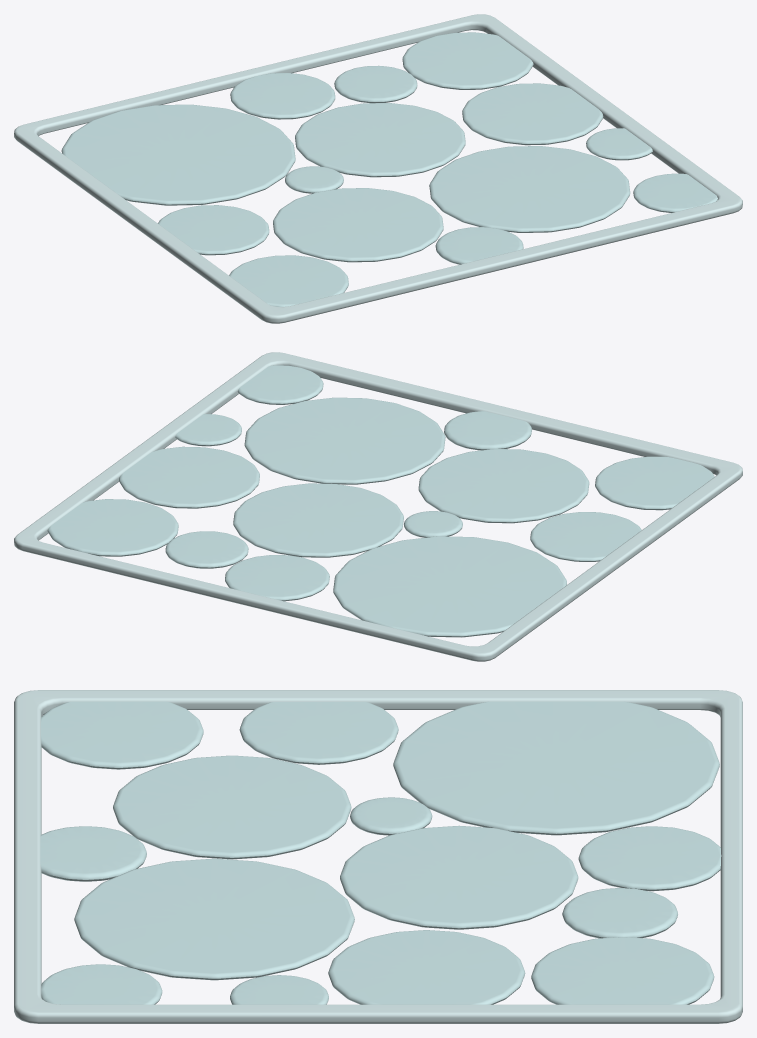
File: circels board.fbx
The picture shows the model from 3 angles, top to bottom: view 1: azimuth 30°, elevation 25°; view 2: azimuth 150°, elevation 25°; view 3: azimuth 270°, elevation 25°; orthographic projection. The views are drawn at different scales.
Parts seen in each view (by area): view 1: circle_s, pCube1; view 2: circle_s, pCube1; view 3: circle_s, pCube1.
Boxes of the visible parts, x1=… form: circle_s: x1=61, y1=32, x2=717, y2=306; pCube1: x1=14, y1=14, x2=742, y2=323; circle_s: x1=47, y1=365, x2=714, y2=637; pCube1: x1=14, y1=352, x2=742, y2=661; circle_s: x1=40, y1=701, x2=721, y2=1004; pCube1: x1=14, y1=690, x2=742, y2=1023.
Size of the model in its own units: 1167 by 18.77 by 1106.
